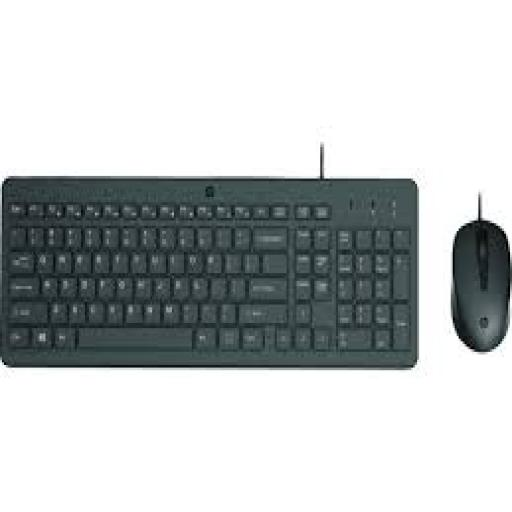keyboard: (0, 179, 417, 365)
